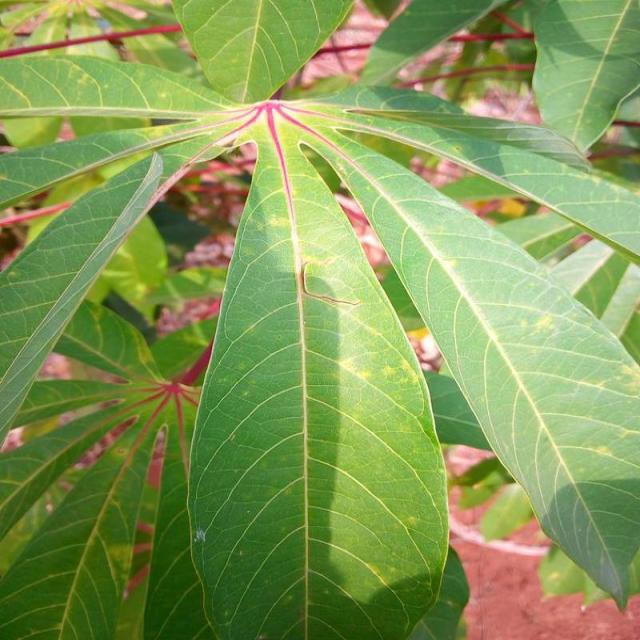cassava leaf: (0, 1, 638, 637), (186, 108, 450, 638)
